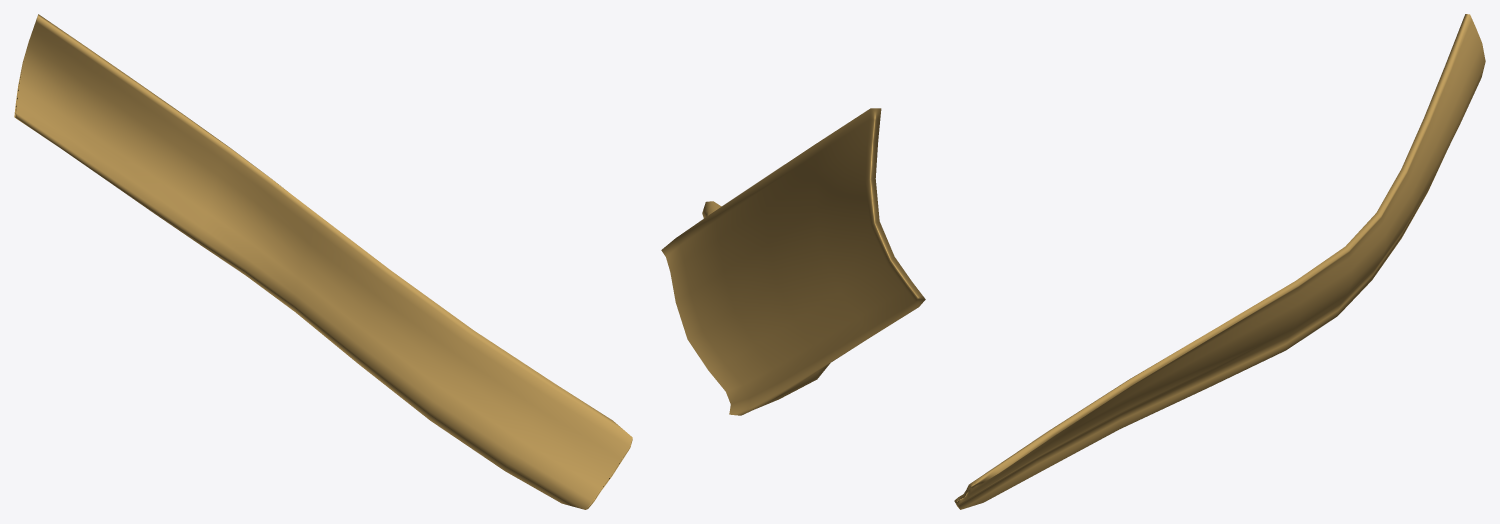
3 renders of one model, left to right at view 1: azimuth 30°, elevation 25°; view 2: azimuth 150°, elevation 25°; view 3: azimuth 270°, elevation 25°, orthographic. The views are drawn at different scales.
Visible parts, largest first — view 1: 右侧耻股韧带; view 2: 右侧耻股韧带; view 3: 右侧耻股韧带.
Boxes of the visible parts, x1,y1,x2,y2 form: 右侧耻股韧带: (14, 14, 632, 509); 右侧耻股韧带: (661, 108, 925, 415); 右侧耻股韧带: (954, 14, 1485, 509).
Bounding box in the file's own units: 0.0505 × 0.0492 × 0.0658.
